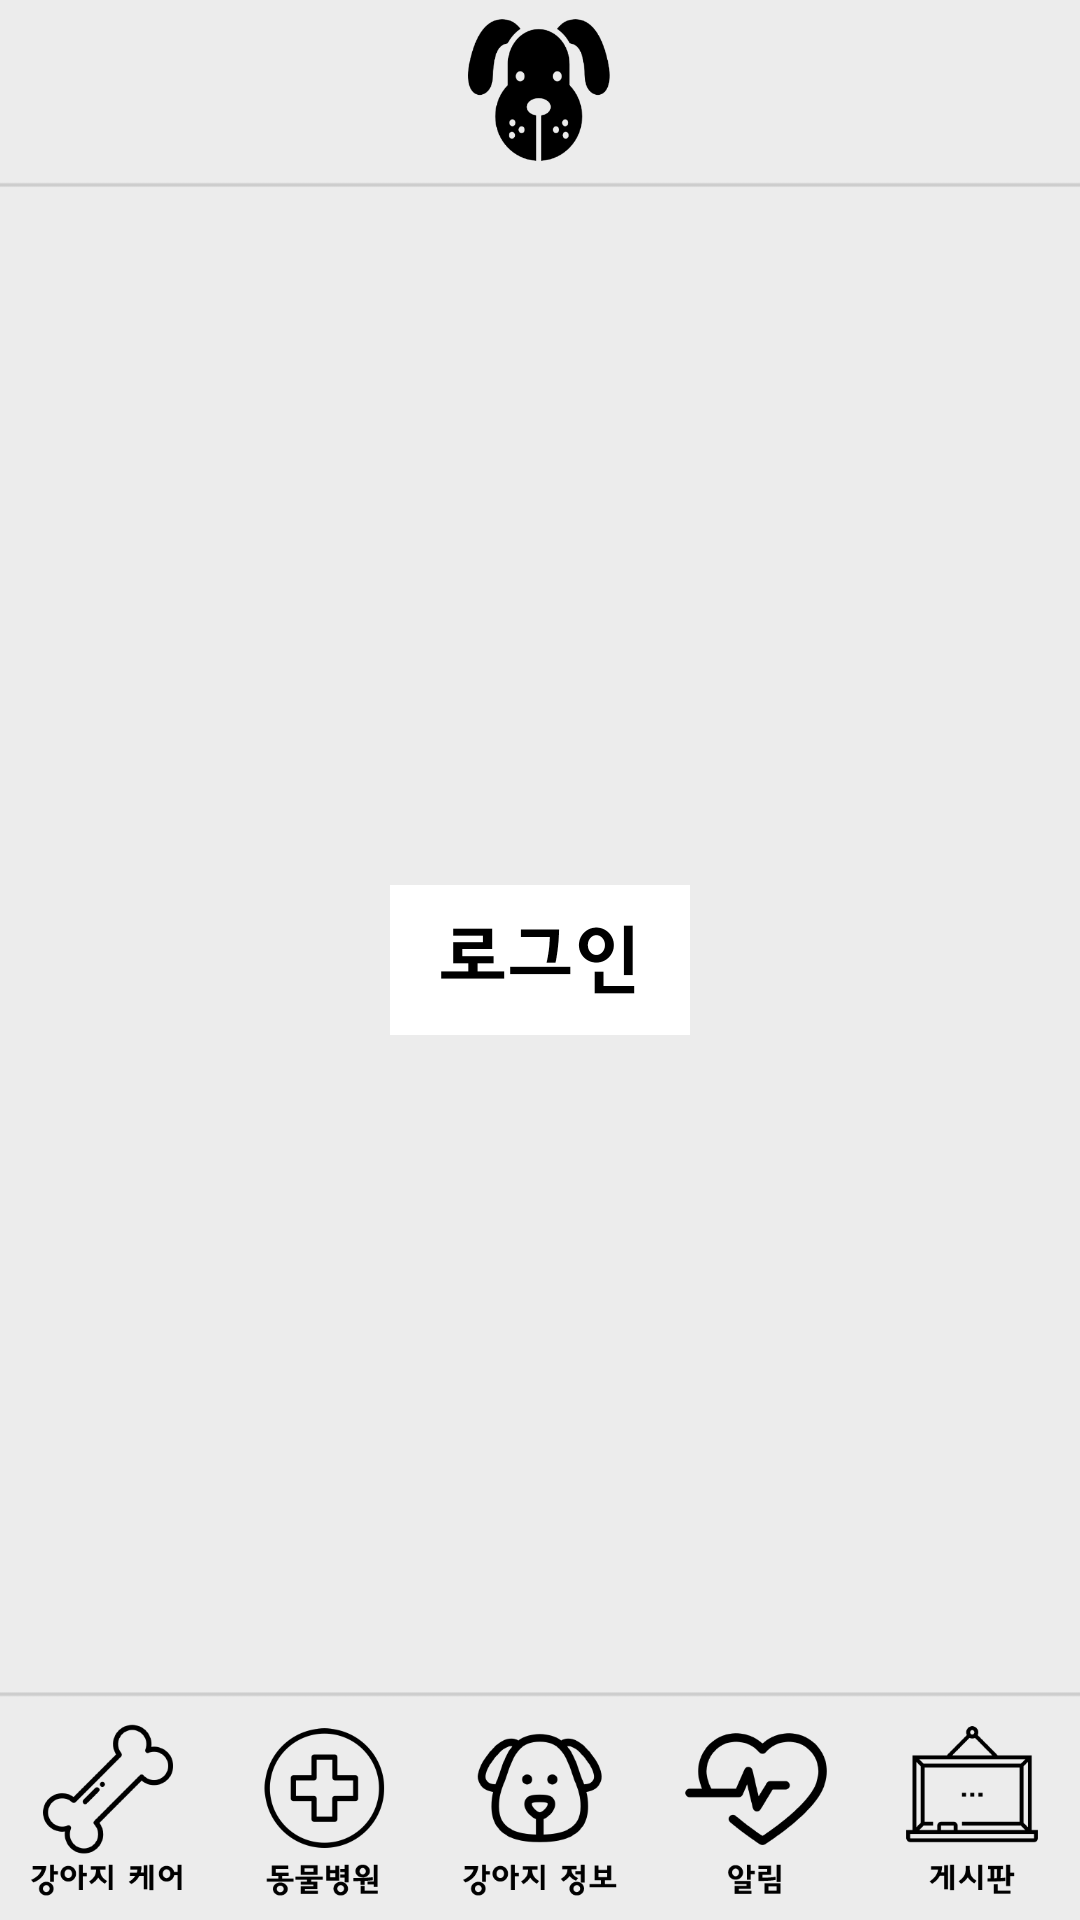

Point at icon controls on the screen. Image size 1080*1920, points as (x,y).
dogdogface: (539,90)
